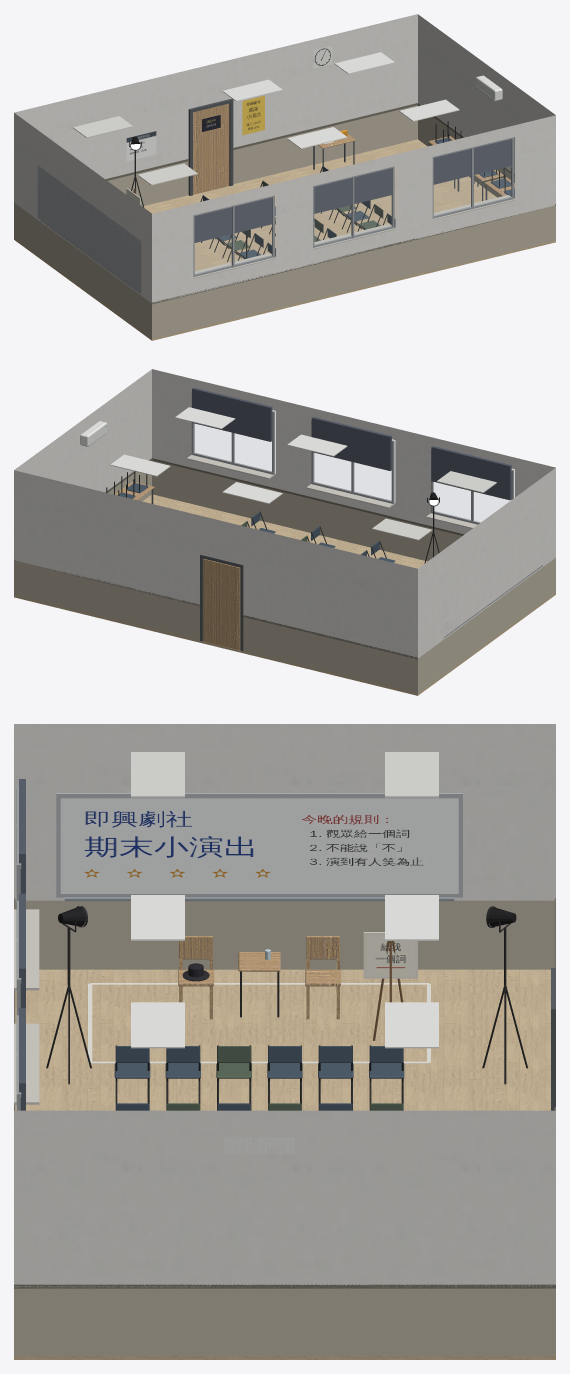
The model's file is boya_203.glb.
3 views of the same model, one above another, from view 1: azimuth 30°, elevation 25°; view 2: azimuth 150°, elevation 25°; view 3: azimuth 270°, elevation 25° (orthographic). The views are drawn at different scales.
Parts seen in each view (by area): view 1: WALL_N_wall, WALL_S_wall, WALL_S_wain, WALL_S_glass, WALL_S_frame, boya_203_floorm, WALL_E_wall, WALL_W_wall, WALL_N_wain, boya_203_props, WALL_W_trim, WALL_W_wain (+8 smaller); view 2: WALL_N_wall, WALL_S_wall, WALL_N_wain, WALL_W_wall, WALL_S_frame, WALL_S_wain, WALL_E_wall, WALL_S_glass, boya_203_props, WALL_W_wain, boya_203_floorm, WALL_N_door (+5 smaller); view 3: WALL_E_wall, boya_203_floorm, WALL_W_wall, WALL_W_board, WALL_E_wain, boya_203_props, WALL_W_wain, WALL_S_frame, WALL_W_trim, boya_203_woodparts, WALL_E_trim, boya_203_metal (+2 smaller).
Boxes of the visible parts, x1,y1,x2,y2 form: WALL_N_wall: (14, 14, 417, 178); WALL_S_wall: (152, 115, 555, 303); WALL_S_wain: (152, 205, 555, 338); WALL_S_glass: (195, 140, 510, 273); WALL_S_frame: (193, 137, 514, 278); boya_203_floorm: (14, 139, 555, 340); WALL_E_wall: (418, 14, 555, 173); WALL_W_wall: (14, 113, 151, 303); WALL_N_wain: (108, 105, 417, 206); boya_203_props: (73, 52, 514, 258); WALL_W_trim: (37, 165, 141, 293); WALL_W_wain: (14, 203, 151, 338); WALL_N_wall: (14, 470, 417, 658); WALL_S_wall: (152, 369, 555, 533); WALL_N_wain: (14, 560, 417, 693); WALL_W_wall: (418, 468, 555, 658); WALL_S_frame: (186, 387, 514, 528); WALL_S_wain: (152, 460, 461, 561); WALL_E_wall: (14, 369, 151, 492); WALL_S_glass: (194, 424, 508, 521); boya_203_props: (110, 407, 496, 562); WALL_W_wain: (418, 558, 555, 693); boya_203_floorm: (14, 494, 555, 695); WALL_N_door: (203, 559, 240, 650); WALL_E_wall: (14, 1110, 555, 1286); boya_203_floorm: (14, 969, 555, 1359); WALL_W_wall: (14, 724, 555, 900); WALL_W_board: (60, 798, 458, 893); WALL_E_wain: (14, 1287, 555, 1355); boya_203_props: (58, 752, 516, 1110); WALL_W_wain: (15, 900, 554, 969); WALL_S_frame: (14, 779, 39, 1110); WALL_W_trim: (56, 793, 462, 901); boya_203_woodparts: (178, 936, 340, 1019); WALL_E_trim: (14, 1137, 555, 1288); boya_203_metal: (46, 922, 527, 1110).
Size of the model in its own units: 10.8 by 3.25 by 6.4.
13 materials, 5 textured.
